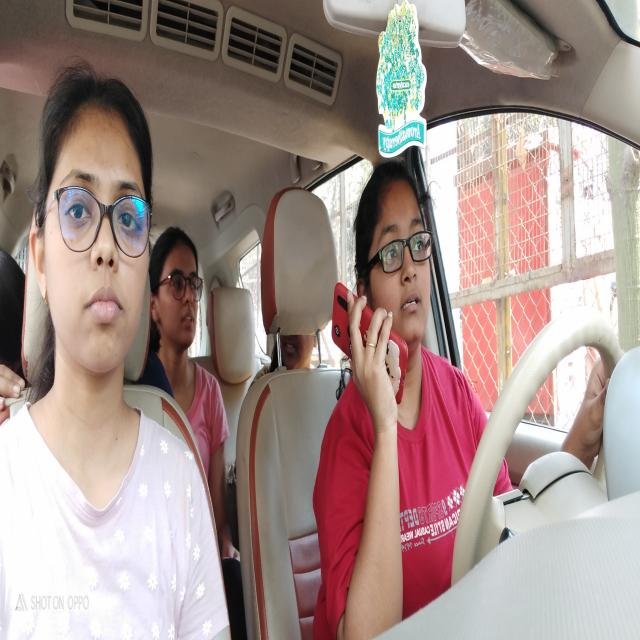mobile: (332, 281, 405, 407)
person: (39, 65, 150, 375), (361, 178, 432, 342), (156, 230, 203, 354), (276, 343, 319, 365)
